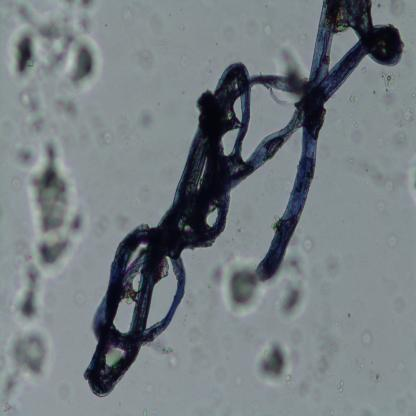Air bubble: (394, 110, 404, 128)
Background material: (3, 0, 96, 138), (12, 132, 93, 266), (0, 322, 49, 413), (61, 38, 104, 121), (209, 254, 262, 318), (269, 250, 310, 318), (250, 332, 294, 384), (13, 268, 55, 319), (298, 350, 330, 404), (114, 112, 136, 148), (278, 46, 300, 78), (371, 165, 395, 192), (134, 103, 156, 131), (379, 67, 397, 98), (135, 46, 155, 71), (370, 365, 390, 386), (166, 346, 182, 370), (326, 253, 341, 277), (407, 162, 416, 200), (186, 328, 204, 346), (211, 364, 227, 384), (177, 52, 192, 72), (69, 288, 85, 306), (390, 0, 406, 17), (392, 129, 408, 145), (360, 329, 374, 347), (100, 133, 114, 149), (354, 350, 363, 371), (303, 235, 315, 250), (388, 234, 399, 250), (393, 357, 404, 373), (404, 108, 416, 122), (261, 25, 275, 37), (144, 382, 156, 395), (347, 95, 360, 107), (376, 200, 387, 212), (232, 376, 243, 387), (156, 35, 167, 46), (336, 378, 344, 392), (186, 298, 194, 311), (345, 156, 355, 166), (378, 137, 388, 146), (251, 401, 261, 409), (164, 26, 171, 35), (360, 67, 367, 75), (349, 112, 355, 121), (328, 408, 334, 415), (346, 312, 352, 318), (370, 89, 376, 95), (142, 407, 146, 416), (180, 24, 185, 31), (372, 106, 378, 111), (190, 254, 195, 260), (352, 122, 358, 127), (410, 38, 414, 43), (378, 3, 382, 8), (412, 93, 415, 99)
Cotton: (86, 1, 404, 400)
